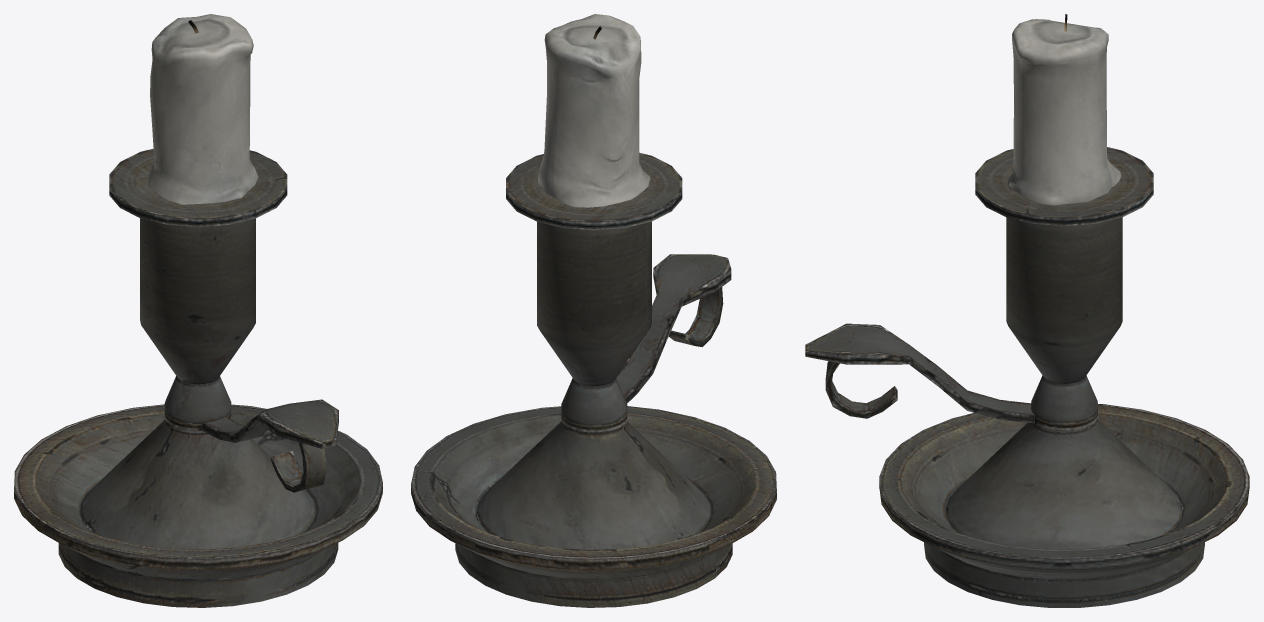
The model's file is EfH_CandleKey.fbx.
3 renders of one model, left to right at view 1: azimuth 30°, elevation 25°; view 2: azimuth 150°, elevation 25°; view 3: azimuth 270°, elevation 25°, orthographic.
Visible parts, largest first — view 1: candle; view 2: candle; view 3: candle.
Part boxes in pixels (left/top/right/bottom): candle: left=14, top=14, right=382, bottom=607; candle: left=411, top=14, right=776, bottom=607; candle: left=805, top=14, right=1249, bottom=607.
Size of the model in its own units: 8.54 by 13.55 by 10.26.
Materials: 1 (1 with a texture image).
